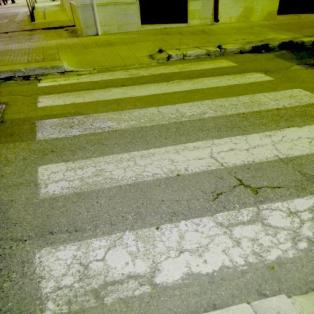Paso de Cebra: (19, 57, 278, 111)
